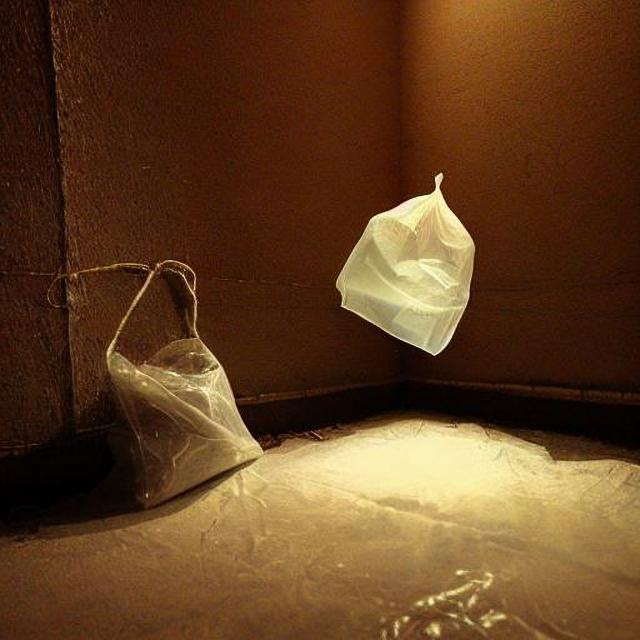plastic bag: (39, 257, 246, 495), (330, 172, 477, 352)
